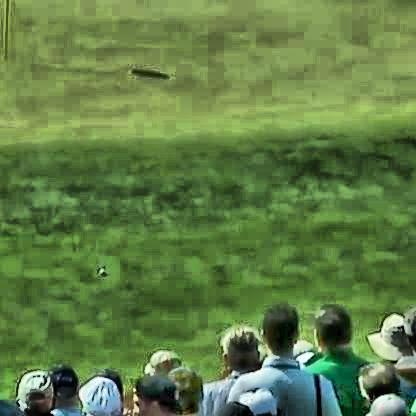golfball: (95, 263, 102, 273)
